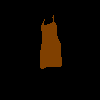vestito: (40, 14, 62, 69)
